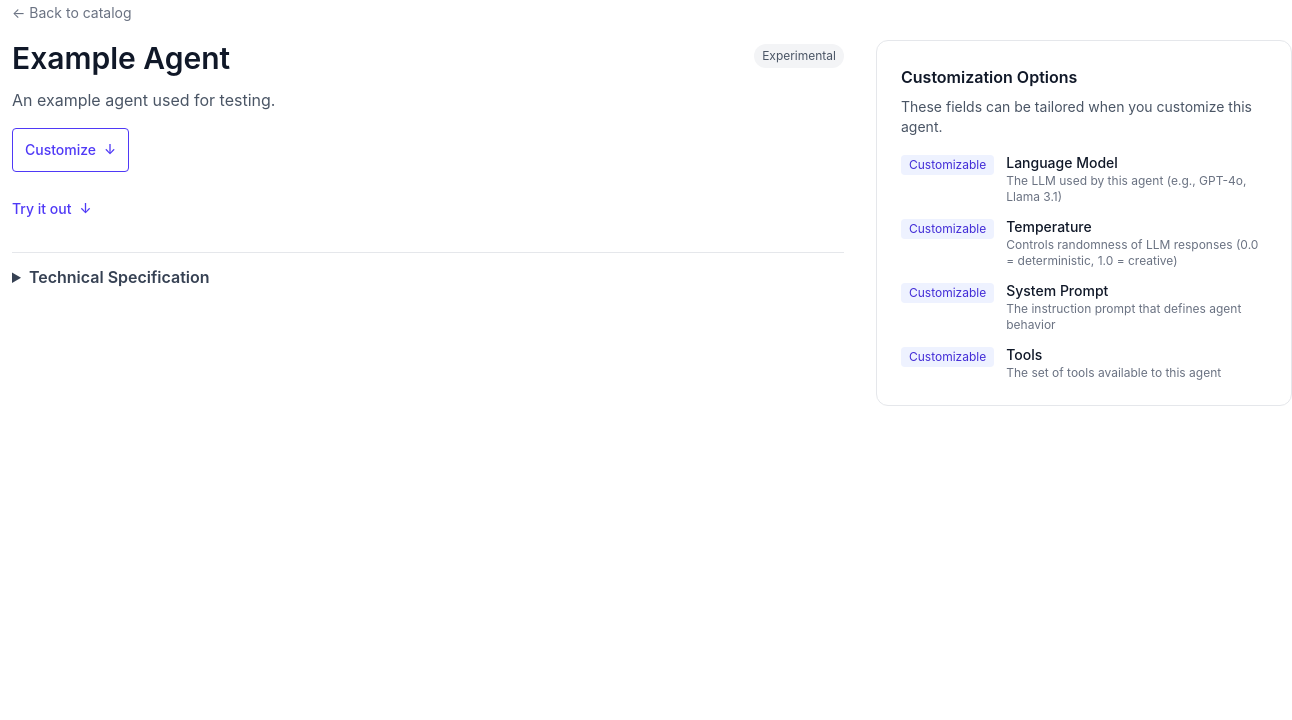
Scenario: Try It Out affordance › clicking the toggle a second time collapses the panel again
Click the button "Try it out ↓": (52, 209) [12,199,92,219]
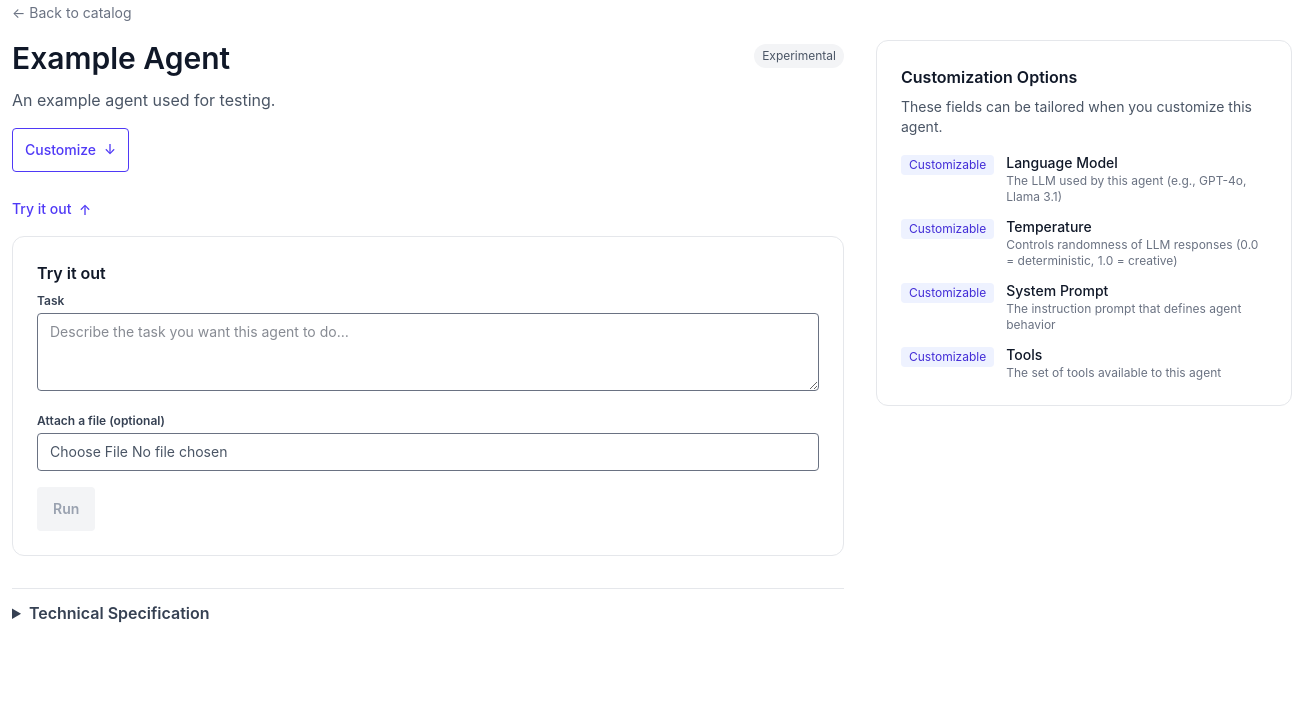
Click the button "Try it out ↓": (52, 209) [12,199,92,219]
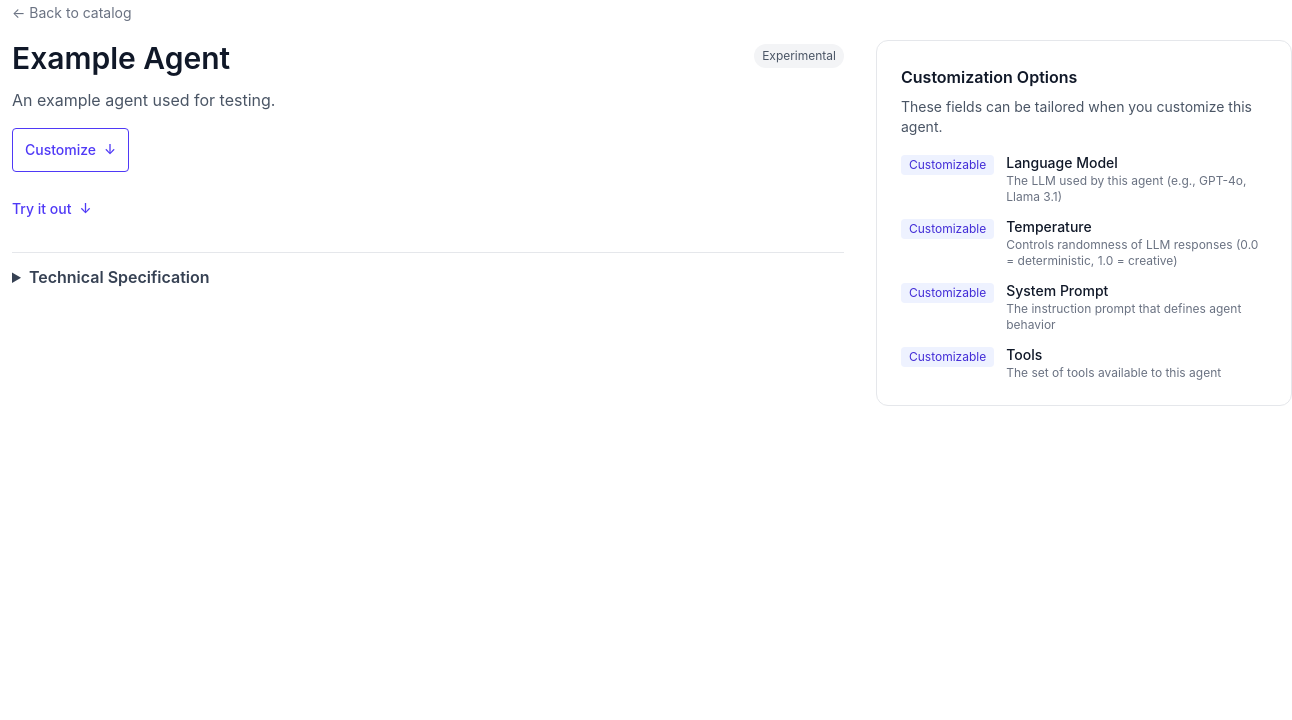
expect the label with id "tryitout-task" is gone: met
expect the button "Try it out ↓" is collapsed: met, box [12,199,92,219]
